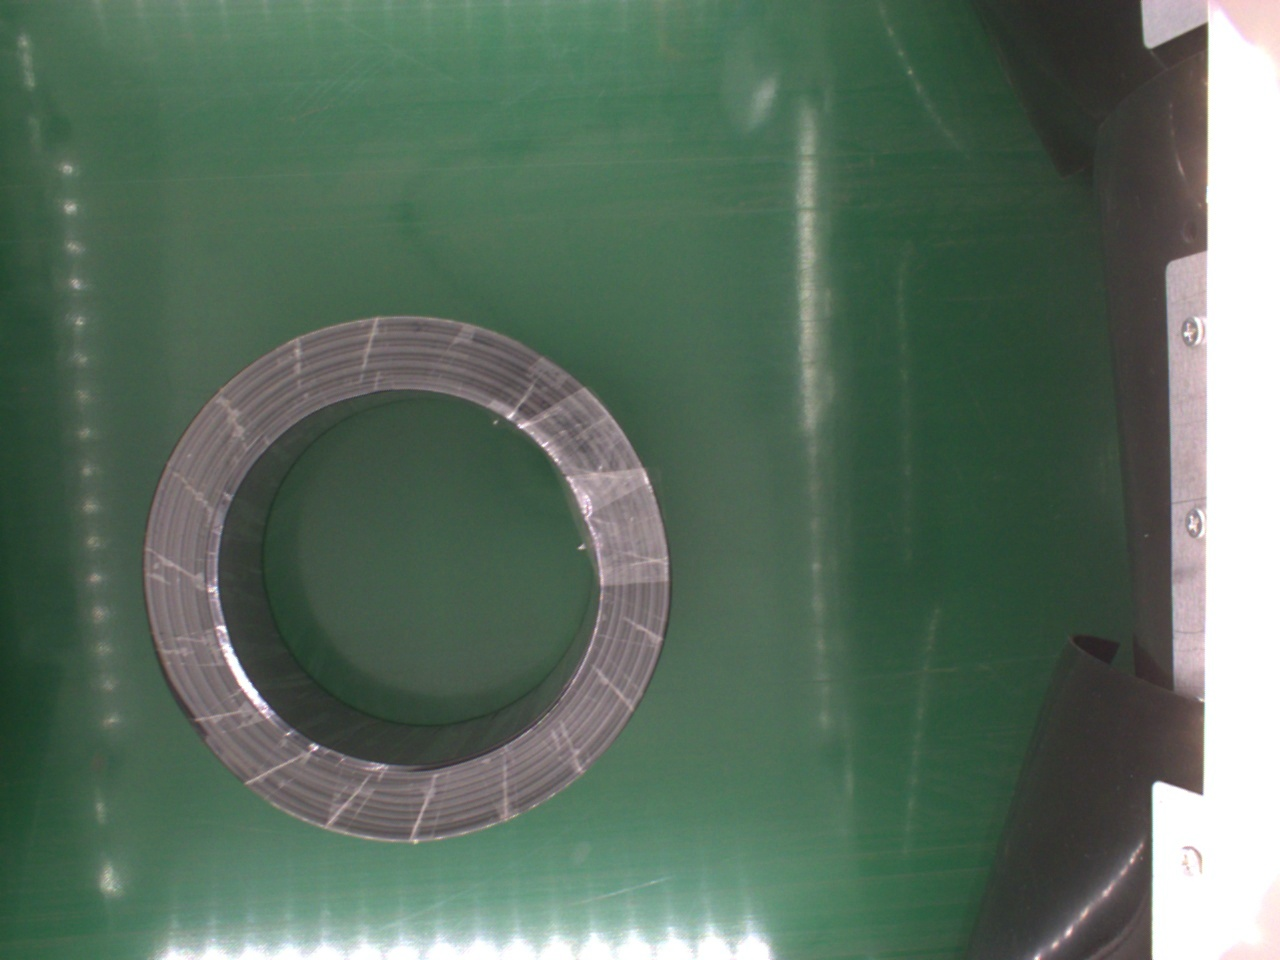black: (141, 317, 670, 842)
